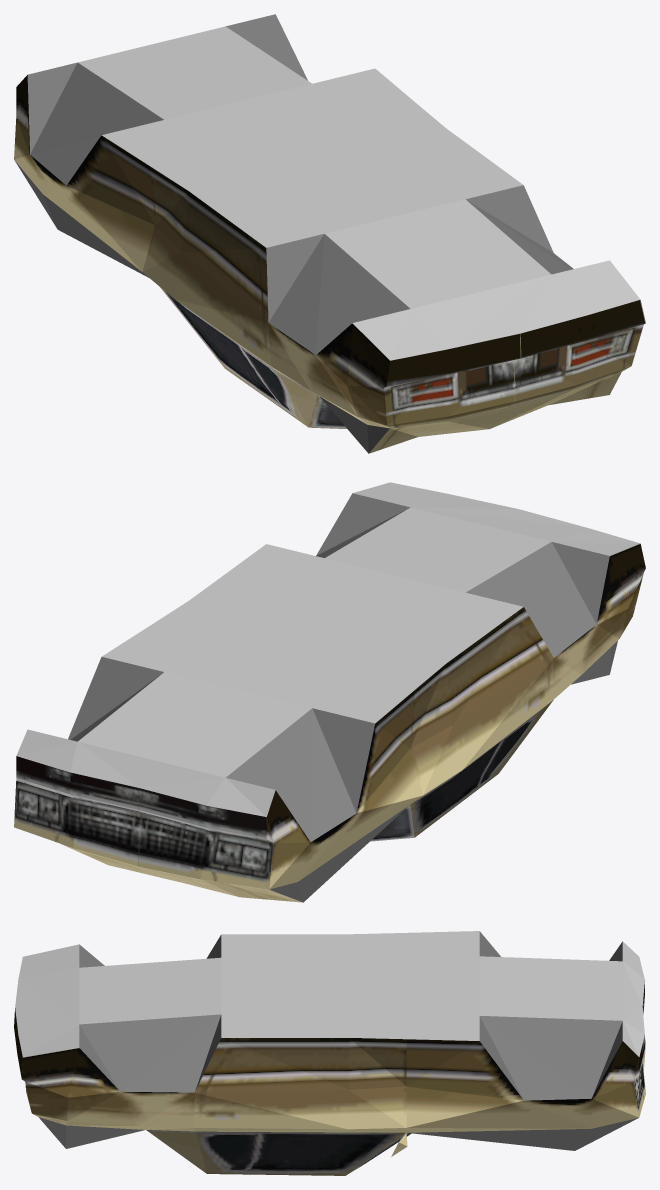
The model's file is RIO_model1_damaged.obj.
3 renders of one model, top to bottom at view 1: azimuth 30°, elevation 25°; view 2: azimuth 150°, elevation 25°; view 3: azimuth 270°, elevation 25°, orthographic. The views are drawn at different scales.
Parts seen in each view (by area): view 1: RIO_model1_damaged; view 2: RIO_model1_damaged; view 3: RIO_model1_damaged.
Part boxes in pixels (x1,y1,x2,y2): RIO_model1_damaged: [14, 14, 645, 453]; RIO_model1_damaged: [14, 482, 645, 902]; RIO_model1_damaged: [14, 931, 645, 1175].
Bounding box in the file's own units: 254 × 156 × 570.
